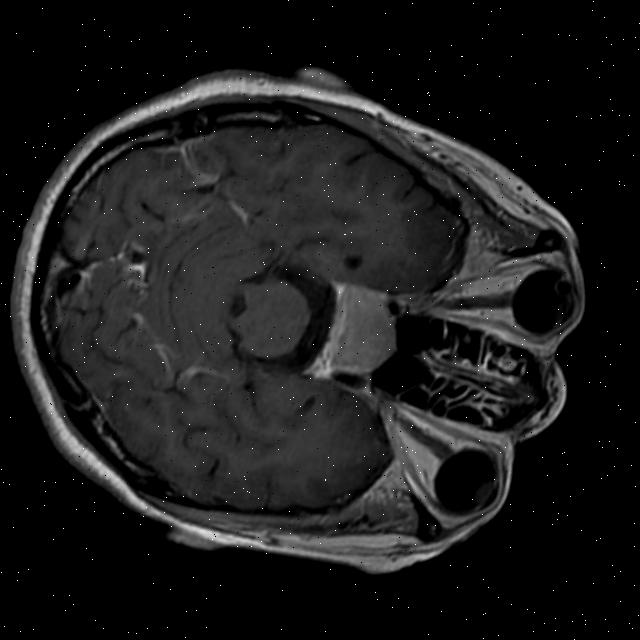Pituitary: (317, 283, 416, 383)
